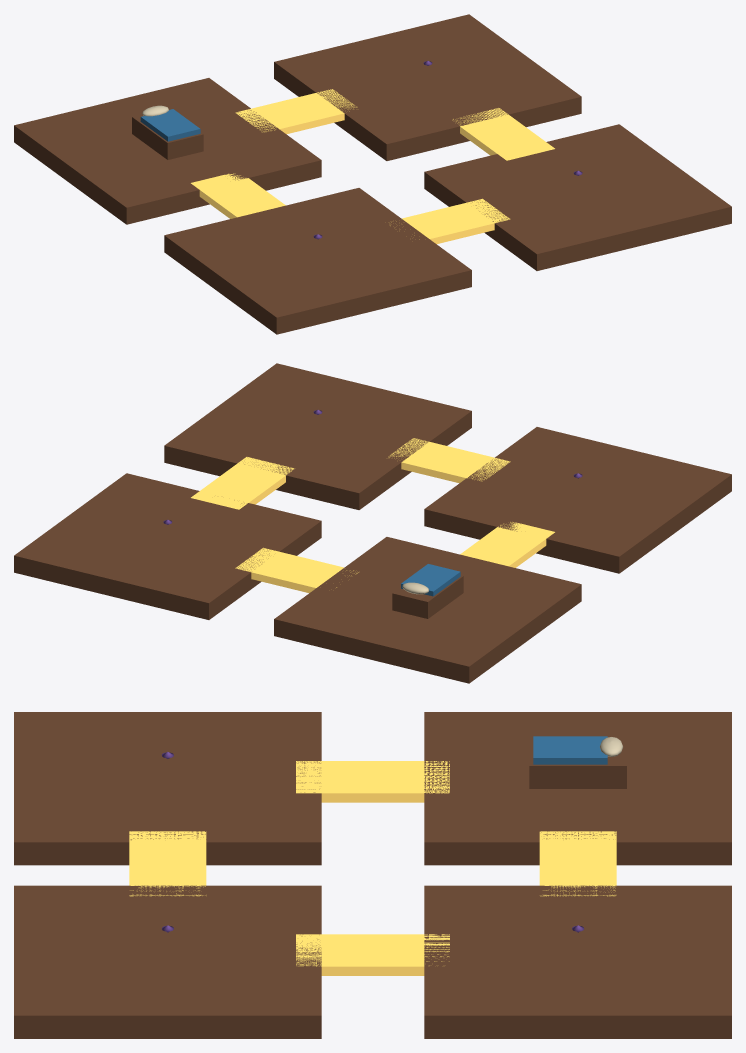
The model's file is last_shadow_arena.glb.
The picture shows the model from 3 angles, top to bottom: view 1: azimuth 30°, elevation 25°; view 2: azimuth 150°, elevation 25°; view 3: azimuth 270°, elevation 25°; orthographic projection. The views are drawn at different scales.
Visible parts, largest first — view 1: room_fragment (×4), light_path_x (×2), light_path_z (×2), frame, blanket; view 2: room_fragment (×4), light_path_x (×2), light_path_z (×2), frame, blanket; view 3: room_fragment (×4), light_path_z (×2), light_path_x (×2), frame, blanket.
Boxes of the visible parts, x1,y1,x2,y2 form: room_fragment (×4): (14,14,731,334); light_path_x (×2): (235,89,510,244); light_path_z (×2): (191,108,554,218); frame: (132,109,203,159); blanket: (140,109,200,141); room_fragment (×4): (14,363,731,683); light_path_x (×2): (235,438,510,593); light_path_z (×2): (191,457,554,567); frame: (392,575,463,618); blanket: (401,564,460,596); room_fragment (×4): (14,712,731,1038); light_path_z (×2): (296,761,449,975); light_path_x (×2): (129,831,616,896); frame: (529,742,626,788); blanket: (533,736,607,764).
Bounding box in the file's own units: 14 × 1.27 × 14.
